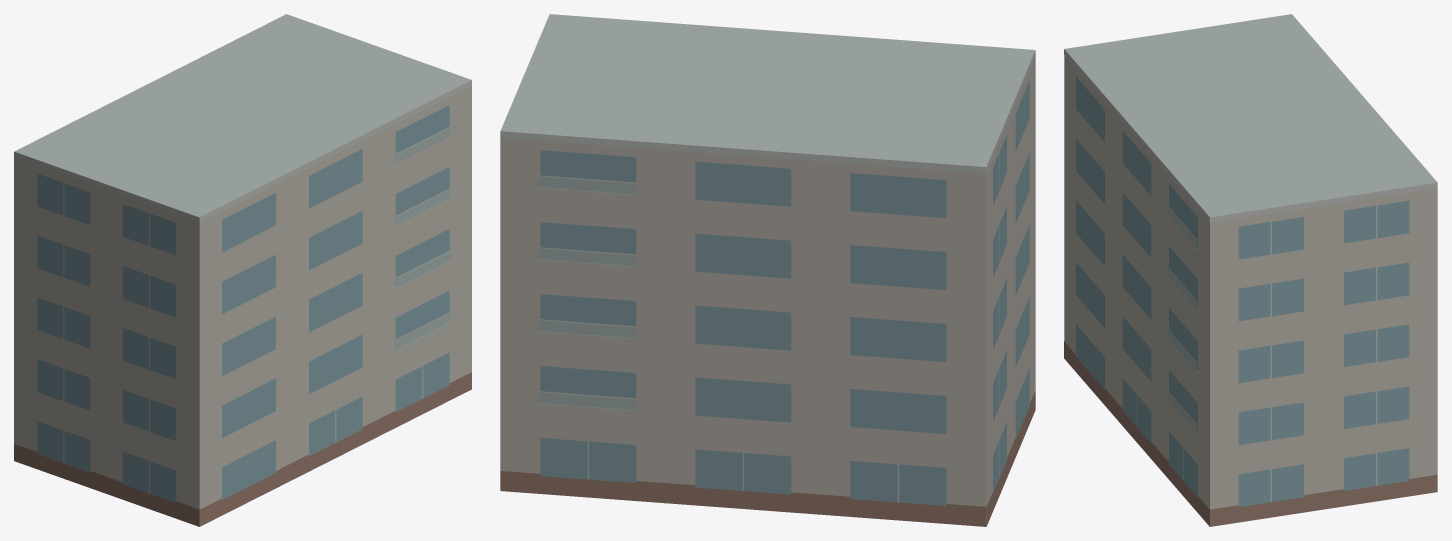
File: survey-upis-32848335.glb
The picture shows the model from 3 angles, left to right: view 1: azimuth 30°, elevation 25°; view 2: azimuth 150°, elevation 25°; view 3: azimuth 270°, elevation 25°; orthographic projection. The views are drawn at different scales.
Parts seen in each view (by area): view 1: survey-upis-32848335.tmp; view 2: survey-upis-32848335.tmp; view 3: survey-upis-32848335.tmp.
Boxes of the visible parts, box(x1,y1,x2,y2) form: survey-upis-32848335.tmp: box(14, 14, 471, 526); survey-upis-32848335.tmp: box(500, 14, 1035, 526); survey-upis-32848335.tmp: box(1064, 14, 1437, 526).
Size of the model in its own units: 18.61 by 13.2 by 14.45.
